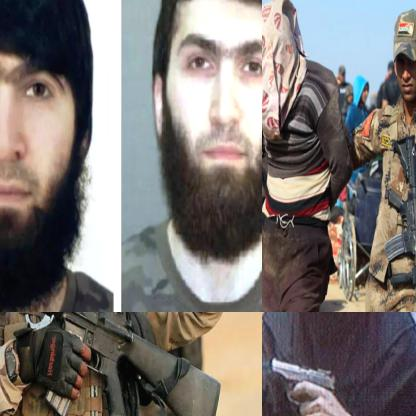pistol: (267, 353, 338, 415)
rifle: (0, 312, 222, 415), (383, 133, 415, 311)
